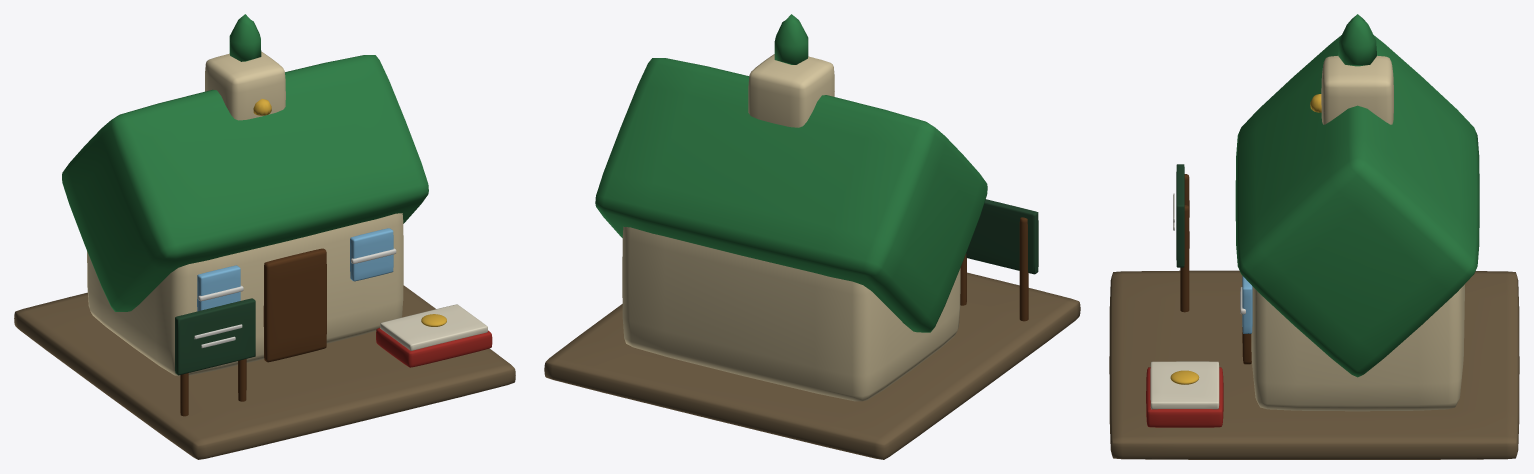
The model's file is Bauernschule.fbx.
3 views of the same model, side by side, from view 1: azimuth 30°, elevation 25°; view 2: azimuth 150°, elevation 25°; view 3: azimuth 270°, elevation 25° (orthographic). The views are drawn at different scales.
Parts seen in each view (by area): view 1: Bauernschule; view 2: Bauernschule; view 3: Bauernschule.
Part boxes in pixels (x1,y1,x2,y2): Bauernschule: (14,14,515,459); Bauernschule: (544,14,1080,459); Bauernschule: (1109,14,1519,459).
Bounding box in the file's own units: 1.9 × 1.85 × 1.9.
